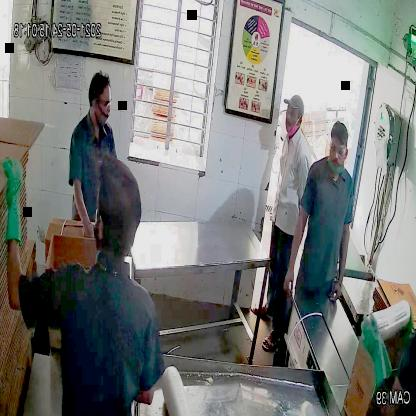goggles: (326, 139, 352, 161), (89, 94, 113, 112)
no_goggles: (284, 106, 302, 120)
